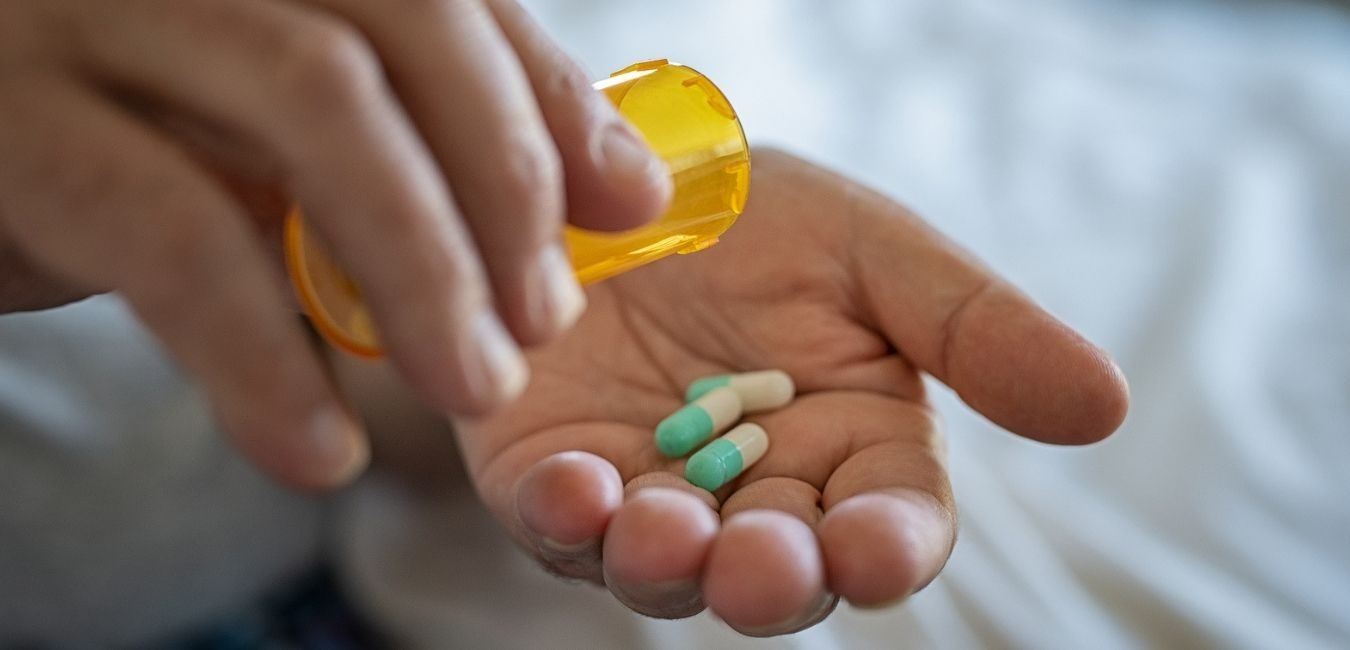pills: (655, 381, 755, 456), (699, 365, 790, 415), (697, 434, 772, 491)
